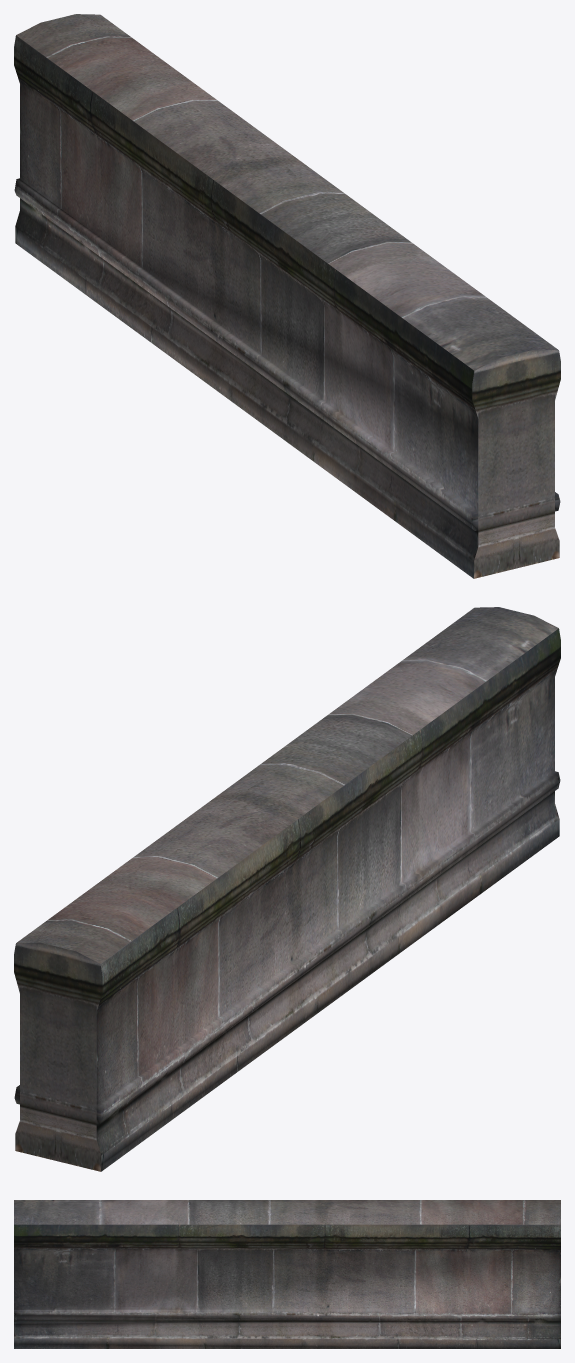
File: steps_wall.obj
3 renders of one model, top to bottom at view 1: azimuth 30°, elevation 25°; view 2: azimuth 150°, elevation 25°; view 3: azimuth 270°, elevation 25°, orthographic. The views are drawn at different scales.
Parts seen in each view (by area): view 1: material40; view 2: material40; view 3: material40.
Part boxes in pixels (bbox=[...]): material40: bbox=[14, 14, 560, 578]; material40: bbox=[14, 607, 560, 1171]; material40: bbox=[14, 1200, 560, 1348].
Bounding box in the file's own units: 22.51 × 52.13 × 202.
Materials: 1 (1 with a texture image).
